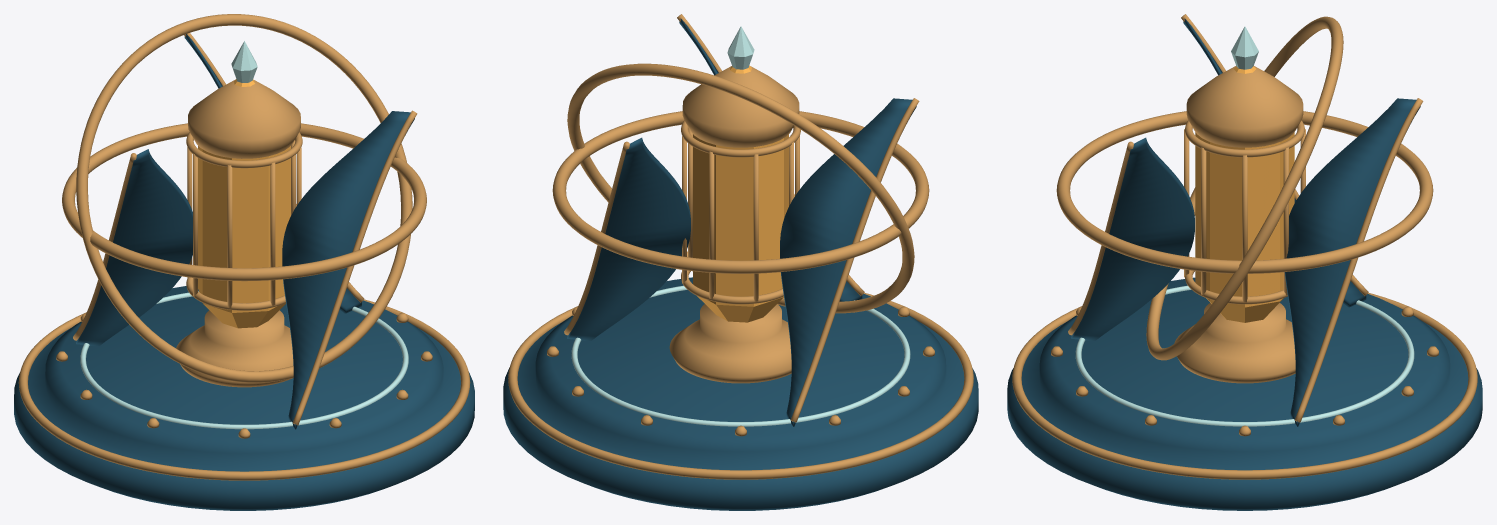
Rendered from sirius_tide_beacon.glb.
The picture shows the model from 3 angles, left to right: view 1: azimuth 30°, elevation 25°; view 2: azimuth 150°, elevation 25°; view 3: azimuth 270°, elevation 25°; orthographic projection. The views are drawn at different scales.
Visible parts, largest first — view 1: 01 • stepped tidal plinth, 11 • curled ocean vane 3, 08 • inclined celestial ring, 05 • faceted amber lantern, 11 • curled ocean vane 2, 07 • equatorial instrument ring, 06 • lantern crown, 02 • brass waterline, 04 • lantern foot, 03 • inner foam circle, 12 • gilded wave edge 3, 09 • upper lantern collar (+7 smaller); view 2: 01 • stepped tidal plinth, 11 • curled ocean vane 2, 05 • faceted amber lantern, 11 • curled ocean vane 1, 07 • equatorial instrument ring, 08 • inclined celestial ring, 04 • lantern foot, 02 • brass waterline, 06 • lantern crown, 03 • inner foam circle, 12 • gilded wave edge 2, 09 • upper lantern collar (+6 smaller); view 3: 01 • stepped tidal plinth, 11 • curled ocean vane 1, 11 • curled ocean vane 3, 05 • faceted amber lantern, 07 • equatorial instrument ring, 06 • lantern crown, 02 • brass waterline, 08 • inclined celestial ring, 04 • lantern foot, 03 • inner foam circle, 12 • gilded wave edge 1, 09 • upper lantern collar (+7 smaller).
Part boxes in pixels (<box>): 01 • stepped tidal plinth: <box>14,286,474,510</box>; 11 • curled ocean vane 3: <box>282,111,414,429</box>; 08 • inclined celestial ring: <box>76,14,412,382</box>; 05 • faceted amber lantern: <box>198,79,290,328</box>; 11 • curled ocean vane 2: <box>76,149,192,346</box>; 07 • equatorial instrument ring: <box>62,123,426,281</box>; 06 • lantern crown: <box>188,80,300,158</box>; 02 • brass waterline: <box>18,299,470,480</box>; 04 • lantern foot: <box>176,310,293,387</box>; 03 • inner foam circle: <box>80,291,408,429</box>; 12 • gilded wave edge 3: <box>293,110,417,425</box>; 09 • upper lantern collar: <box>186,132,302,168</box>; 01 • stepped tidal plinth: <box>503,277,978,510</box>; 11 • curled ocean vane 2: <box>780,98,916,426</box>; 05 • faceted amber lantern: <box>693,65,788,322</box>; 11 • curled ocean vane 1: <box>567,137,690,340</box>; 07 • equatorial instrument ring: <box>552,111,929,273</box>; 08 • inclined celestial ring: <box>567,63,914,313</box>; 04 • lantern foot: <box>669,304,791,383</box>; 02 • brass waterline: <box>508,292,973,479</box>; 06 • lantern crown: <box>682,66,799,147</box>; 03 • inner foam circle: <box>571,285,910,426</box>; 12 • gilded wave edge 2: <box>791,98,919,422</box>; 09 • upper lantern collar: <box>681,120,800,157</box>; 01 • stepped tidal plinth: <box>1007,277,1482,510</box>; 11 • curled ocean vane 1: <box>1284,98,1420,426</box>; 11 • curled ocean vane 3: <box>1071,137,1194,340</box>; 05 • faceted amber lantern: <box>1195,66,1294,322</box>; 07 • equatorial instrument ring: <box>1056,111,1433,273</box>; 06 • lantern crown: <box>1186,66,1303,147</box>; 02 • brass waterline: <box>1012,292,1477,479</box>; 08 • inclined celestial ring: <box>1146,16,1343,360</box>; 04 • lantern foot: <box>1174,303,1295,383</box>; 03 • inner foam circle: <box>1075,285,1414,426</box>; 12 • gilded wave edge 1: <box>1295,98,1423,422</box>; 09 • upper lantern collar: <box>1185,120,1304,157</box>.
Bounding box in the file's own units: 2.2 × 2 × 2.2.
